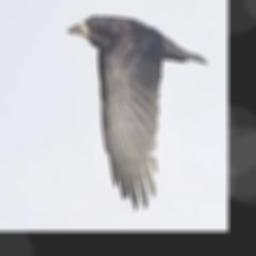Crow: (66, 15, 206, 207)
